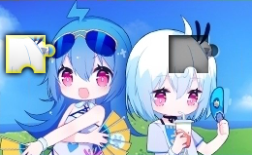gap: (168, 35, 207, 73)
